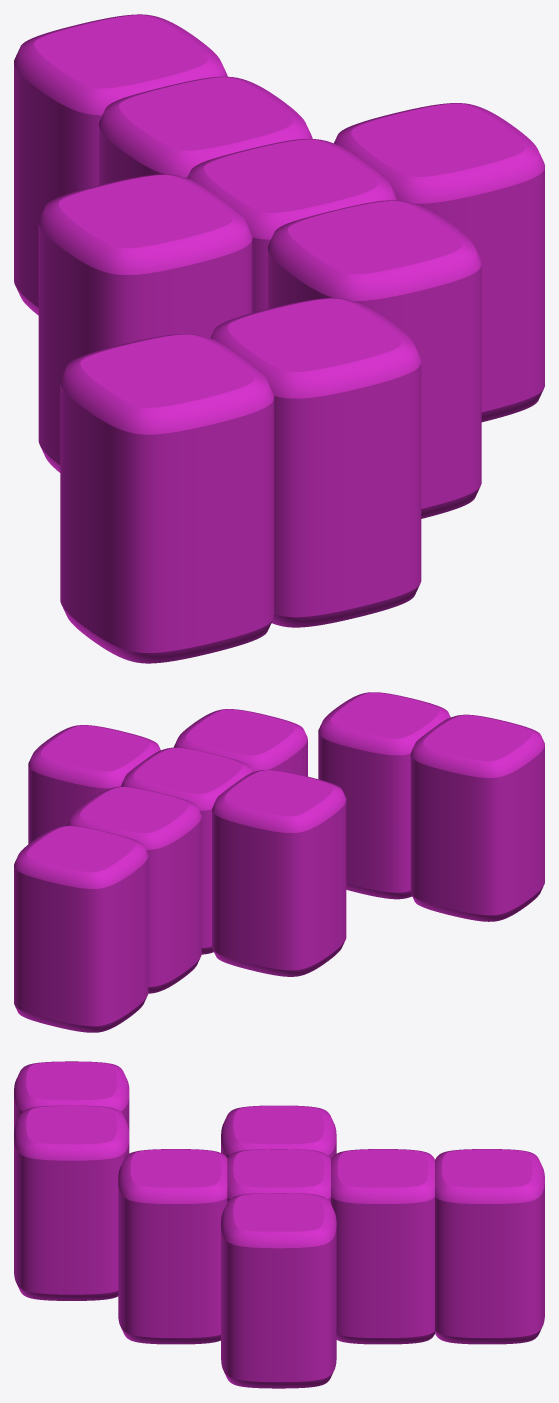
Rendered from Letter_f_Small.fbx.
3 views of the same model, one above another, from view 1: azimuth 30°, elevation 25°; view 2: azimuth 150°, elevation 25°; view 3: azimuth 270°, elevation 25° (orthographic). The views are drawn at different scales.
Parts seen in each view (by area): view 1: Letter_f; view 2: Letter_f; view 3: Letter_f.
Part boxes in pixels (left/top/right/bottom): Letter_f: left=14, top=14, right=544, bottom=663; Letter_f: left=14, top=692, right=544, bottom=1032; Letter_f: left=14, top=1061, right=544, bottom=1388.
Bounding box in the file's own units: 0.3465 × 0.14 × 0.4311.
